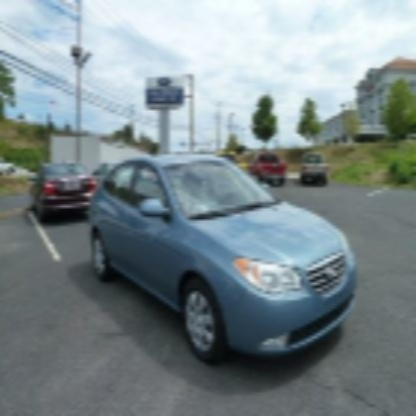Vehicle: (90, 154, 359, 366)
